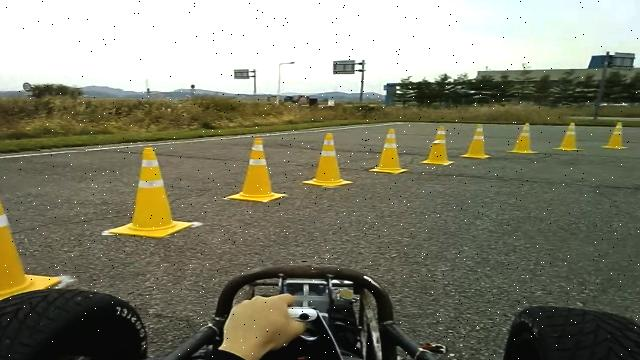yellow cone: (103, 146, 194, 238), (0, 190, 62, 302), (224, 136, 288, 202), (302, 132, 354, 187), (417, 121, 458, 170), (368, 128, 409, 174), (506, 122, 540, 154), (460, 124, 492, 158), (554, 122, 584, 151), (602, 121, 628, 149)
